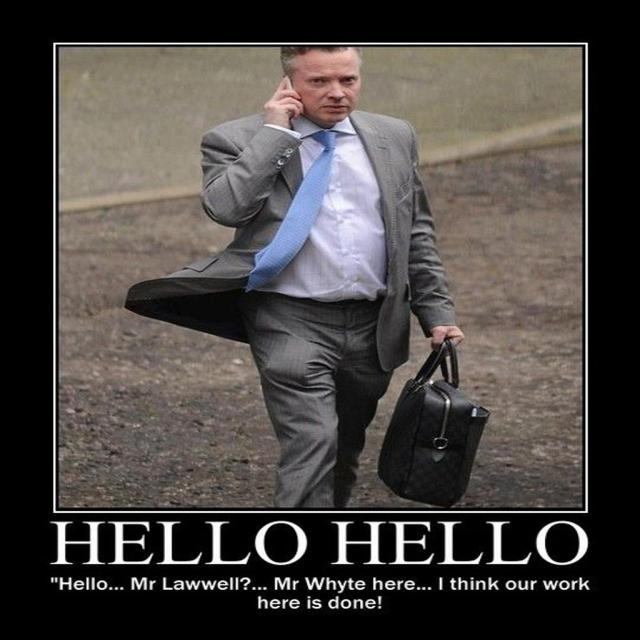nomask: (292, 48, 362, 122)
